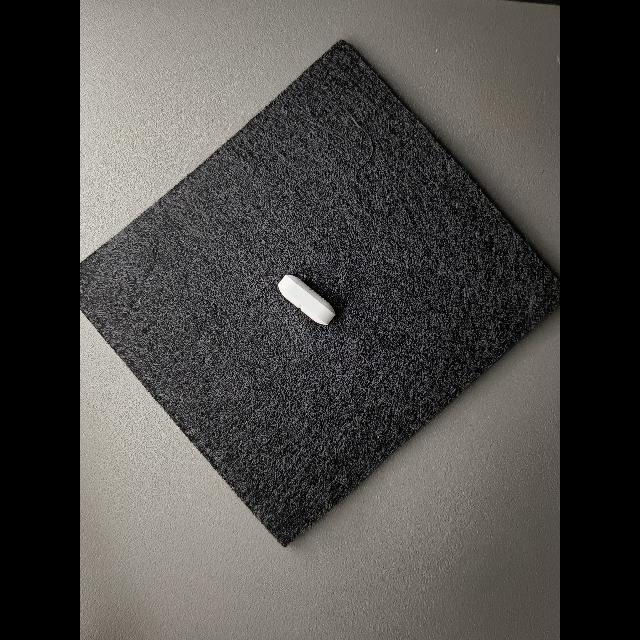Intact Pill: (278, 274, 336, 325)
